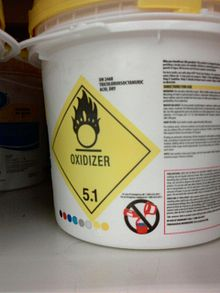Oxidizer: (51, 75, 160, 221)
